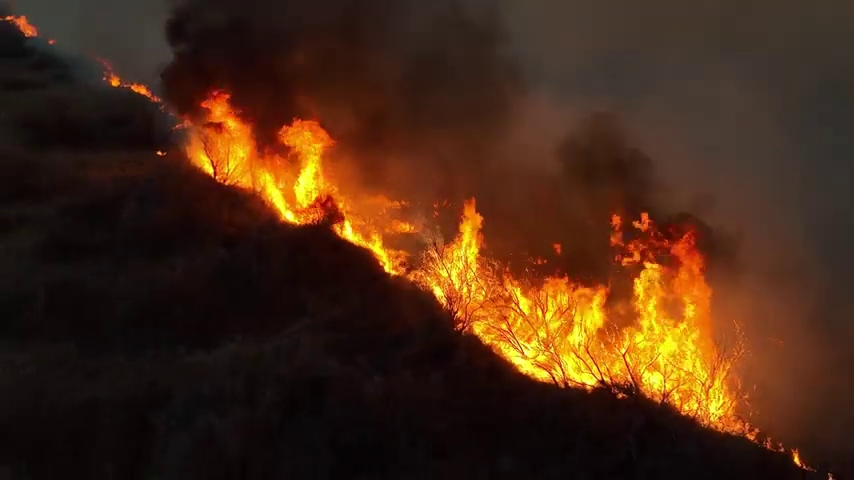forest_fire: (178, 92, 751, 436), (104, 64, 161, 102), (3, 15, 37, 36)
